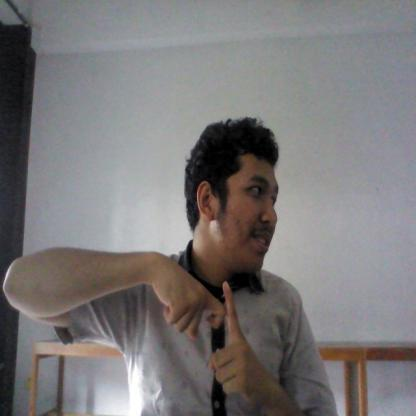K: (148, 251, 261, 399)
